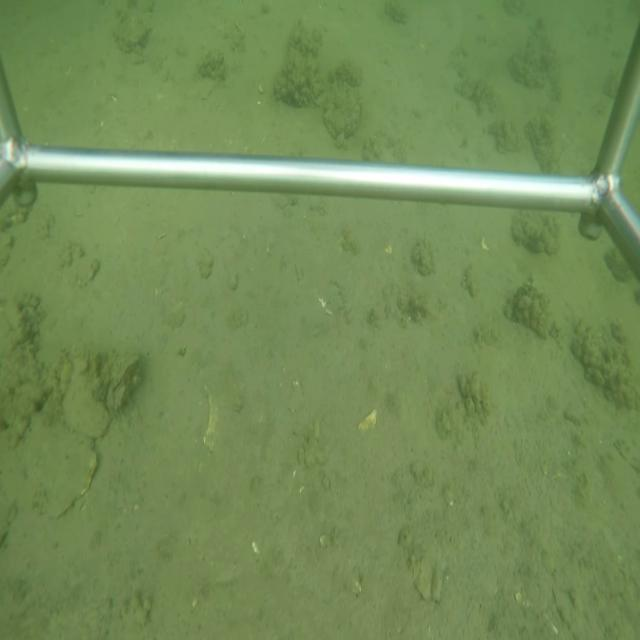Oyster-Closed: (111, 351, 140, 398)
Oyster-Indeterminate: (18, 395, 98, 519), (66, 354, 112, 438)
